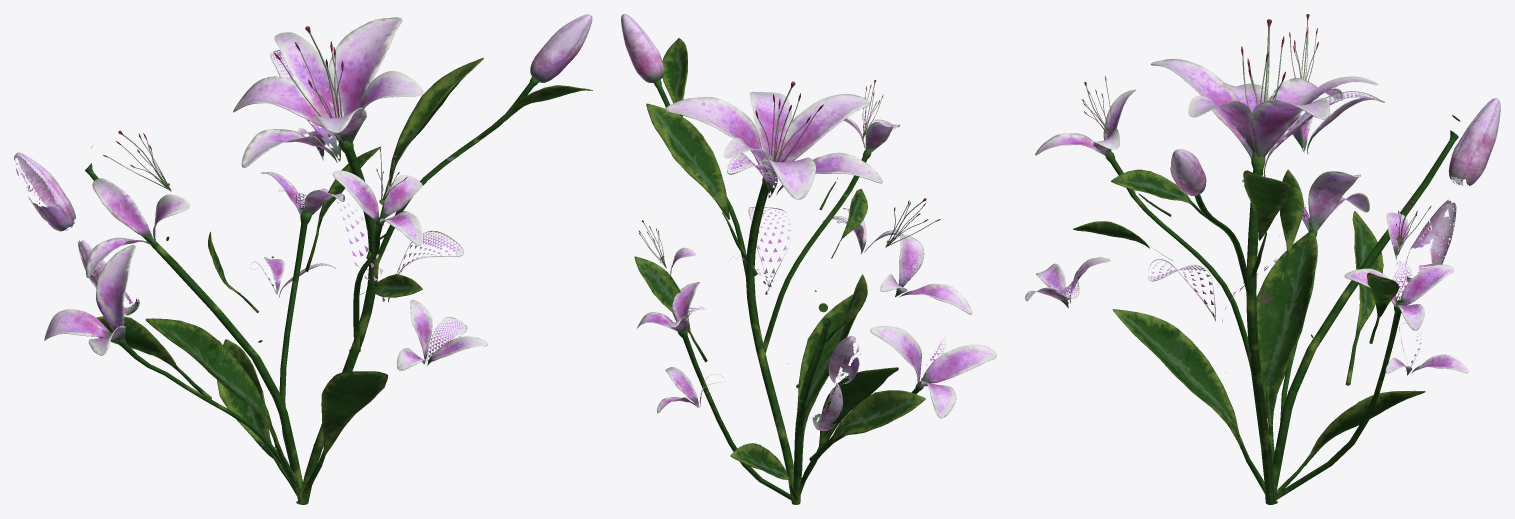
File: lily.glb
3 renders of one model, left to right at view 1: azimuth 30°, elevation 25°; view 2: azimuth 150°, elevation 25°; view 3: azimuth 270°, elevation 25°, orthographic. The views are drawn at different scales.
Visible parts, largest first — view 1: lily_6_lod0, lily_2_lod0, lily_5_lod0, lily_7_lod0, lily_3_lod0, lily_4_lod0, lily_1_lod0; view 2: lily_6_lod0, lily_2_lod0, lily_5_lod0, lily_3_lod0, lily_7_lod0, lily_4_lod0, lily_1_lod0; view 3: lily_2_lod0, lily_6_lod0, lily_5_lod0, lily_3_lod0, lily_7_lod0, lily_1_lod0, lily_4_lod0.
Part boxes in pixels (x1,y1,x2,y2): lily_6_lod0: (233,17,483,504); lily_2_lod0: (91,14,592,504); lily_5_lod0: (85,50,422,503); lily_7_lod0: (77,194,487,495); lily_3_lod0: (86,178,422,498); lily_4_lod0: (44,245,335,495); lily_1_lod0: (14,152,344,466); lily_6_lod0: (646,91,869,503); lily_2_lod0: (621,14,940,504); lily_5_lod0: (670,117,899,503); lily_3_lod0: (797,189,972,478); lily_7_lod0: (727,207,925,499); lily_4_lod0: (657,326,996,496); lily_1_lod0: (636,282,860,502); lily_2_lod0: (1081,14,1460,503); lily_6_lod0: (1151,59,1378,504); lily_5_lod0: (1035,83,1458,491); lily_3_lod0: (1073,97,1384,493); lily_7_lod0: (1025,199,1456,493); lily_1_lod0: (1275,98,1500,500); lily_4_lod0: (1242,171,1468,423).
Size of what is drawn, in the model's own units: 0.9616 by 0.95 by 0.8433.
1 material, 1 textured.
